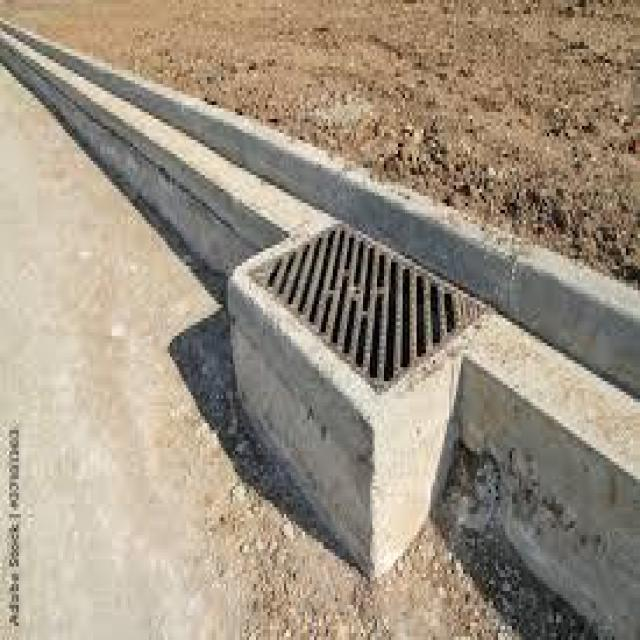curb: (12, 42, 313, 268), (462, 319, 640, 631)
